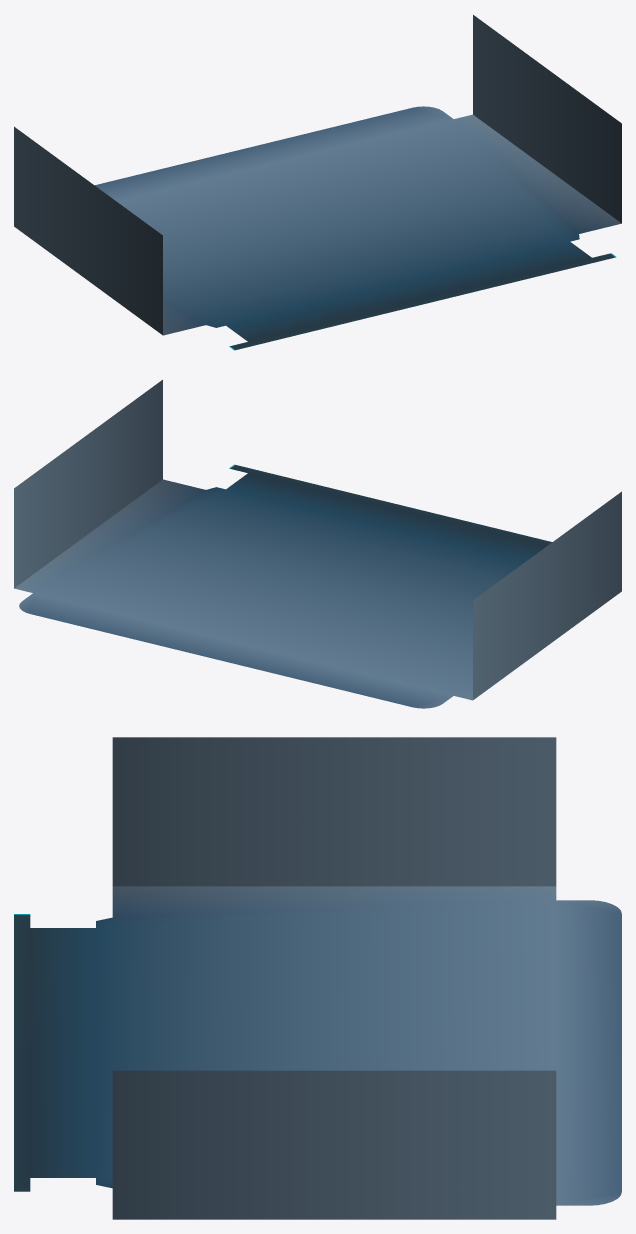
Rendered from LODRoof-single.fbx.
3 renders of one model, top to bottom at view 1: azimuth 30°, elevation 25°; view 2: azimuth 150°, elevation 25°; view 3: azimuth 270°, elevation 25°, orthographic. The views are drawn at different scales.
Visible parts, largest first — view 1: ROOF/FLOOR SINGLE.006; view 2: ROOF/FLOOR SINGLE.006; view 3: ROOF/FLOOR SINGLE.006.
Boxes of the visible parts, bbox=[...] form: ROOF/FLOOR SINGLE.006: bbox=[14, 15, 621, 350]; ROOF/FLOOR SINGLE.006: bbox=[14, 379, 621, 708]; ROOF/FLOOR SINGLE.006: bbox=[14, 737, 621, 1219].
Size of the model in its own units: 2400 by 500 by 1850.
